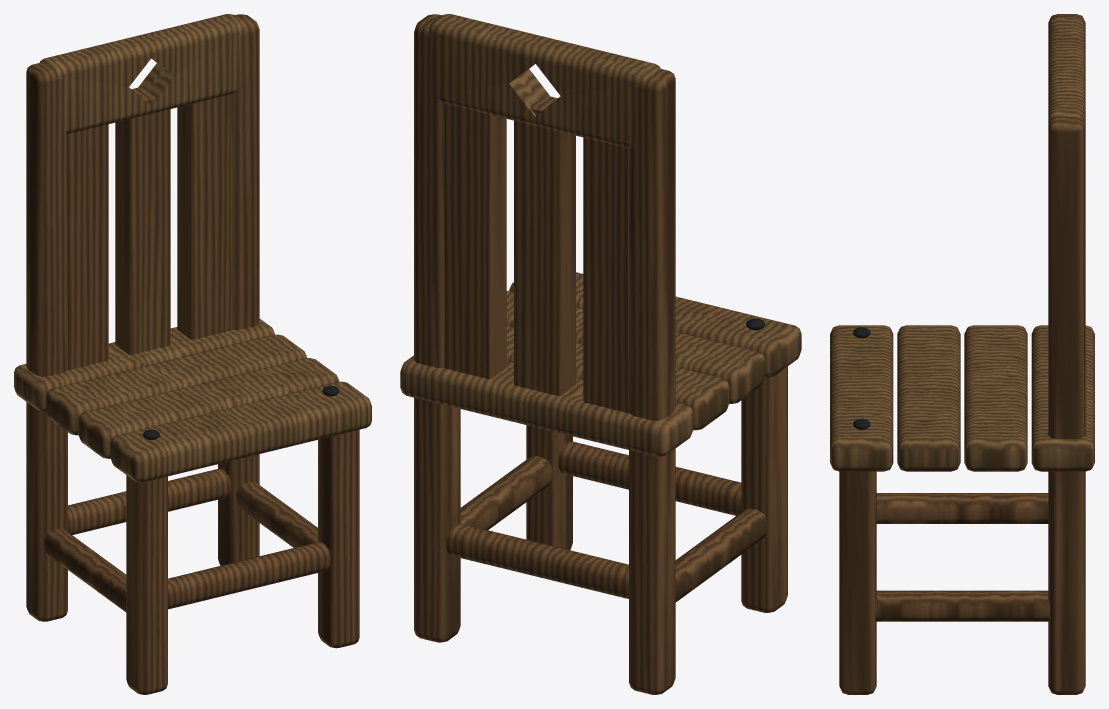
The model's file is tavern-chair.glb.
The picture shows the model from 3 angles, left to right: view 1: azimuth 30°, elevation 25°; view 2: azimuth 150°, elevation 25°; view 3: azimuth 270°, elevation 25°; orthographic projection. The views are drawn at different scales.
Parts seen in each view (by area): view 1: Chair | front leg; view 2: Chair | front leg; view 3: Chair | front leg.
Boxes of the visible parts, x1=… form: Chair | front leg: x1=14, y1=14, x2=371, y2=694; Chair | front leg: x1=400, y1=14, x2=801, y2=694; Chair | front leg: x1=830, y1=14, x2=1094, y2=694.
Bounding box in the file's own units: 0.77 × 1.71 × 0.71.
1 material, 1 textured.
